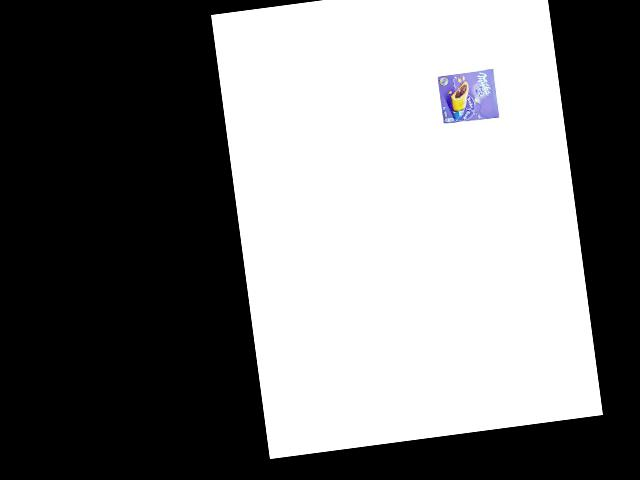chocolate: (433, 65, 503, 127)
